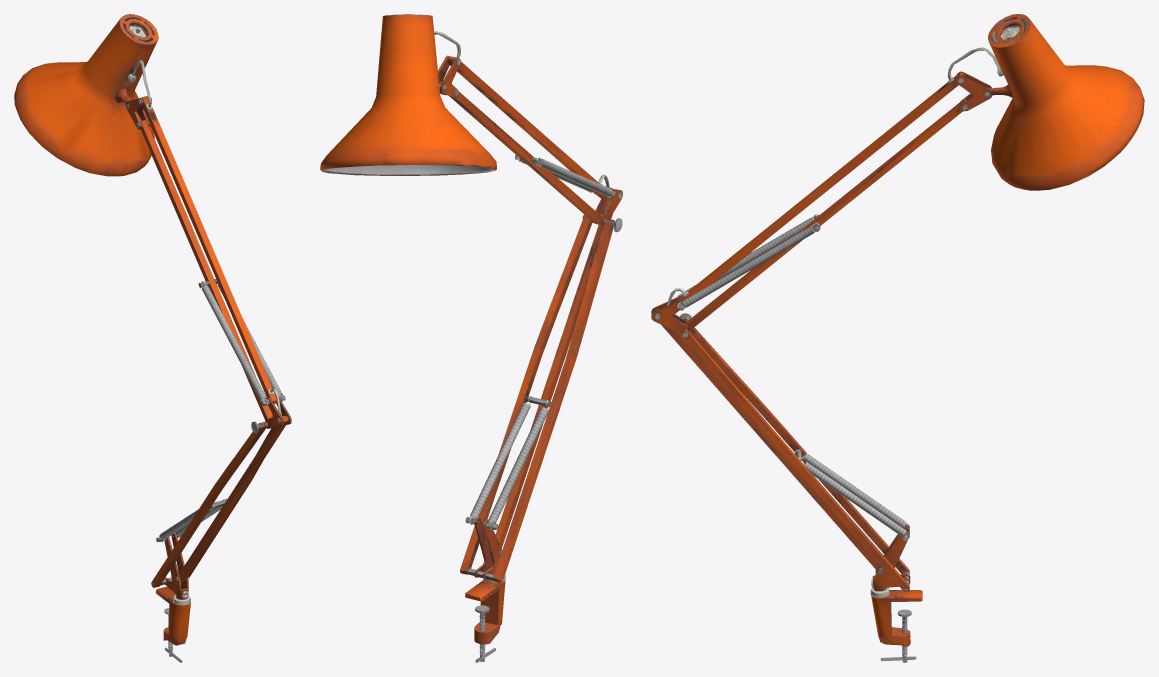
Rendered from desk-lamp.glb.
3 views of the same model, side by side, from view 1: azimuth 30°, elevation 25°; view 2: azimuth 150°, elevation 25°; view 3: azimuth 270°, elevation 25° (orthographic). The views are drawn at different scales.
Visible parts, largest first — view 1: desk-lamp; view 2: desk-lamp; view 3: desk-lamp.
Boxes of the visible parts, bbox=[...] form: desk-lamp: bbox=[14, 14, 291, 662]; desk-lamp: bbox=[320, 14, 622, 662]; desk-lamp: bbox=[651, 14, 1144, 662].
Size of the model in its own units: 0.2021 by 0.8926 by 0.614.
2 materials, 2 textured.
